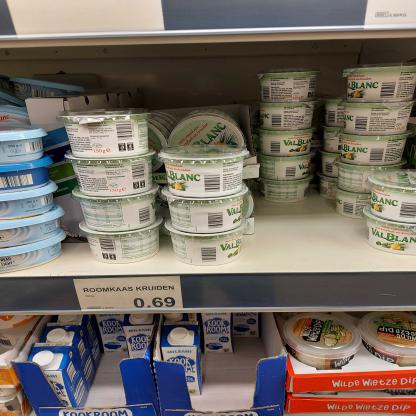prtg: (74, 276, 184, 312)
